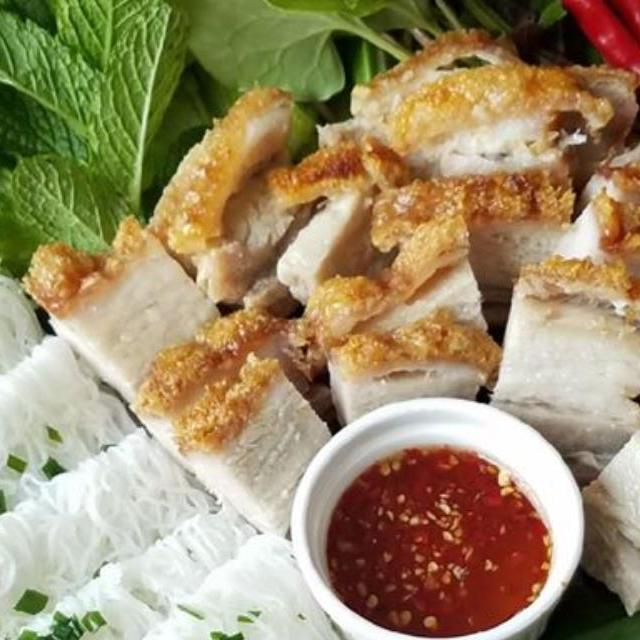banh hoi: (0, 520, 480, 640), (0, 409, 226, 640), (0, 313, 149, 640), (0, 491, 283, 640)
banh hoi heo quay: (0, 0, 640, 640)
thit heo quay: (302, 21, 640, 307), (118, 296, 356, 547), (13, 204, 250, 438), (280, 199, 510, 433), (134, 70, 330, 342), (475, 246, 640, 473), (552, 115, 640, 459), (565, 292, 640, 631)
